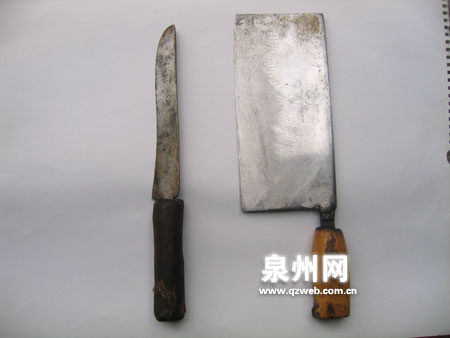knief: (219, 10, 374, 246)
